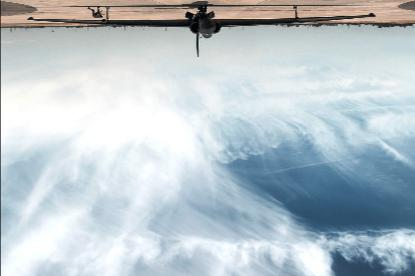Tu160: (27, 5, 375, 57)
